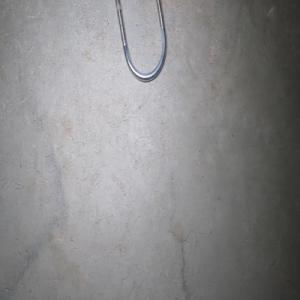ClampPart: (114, 0, 167, 83)
